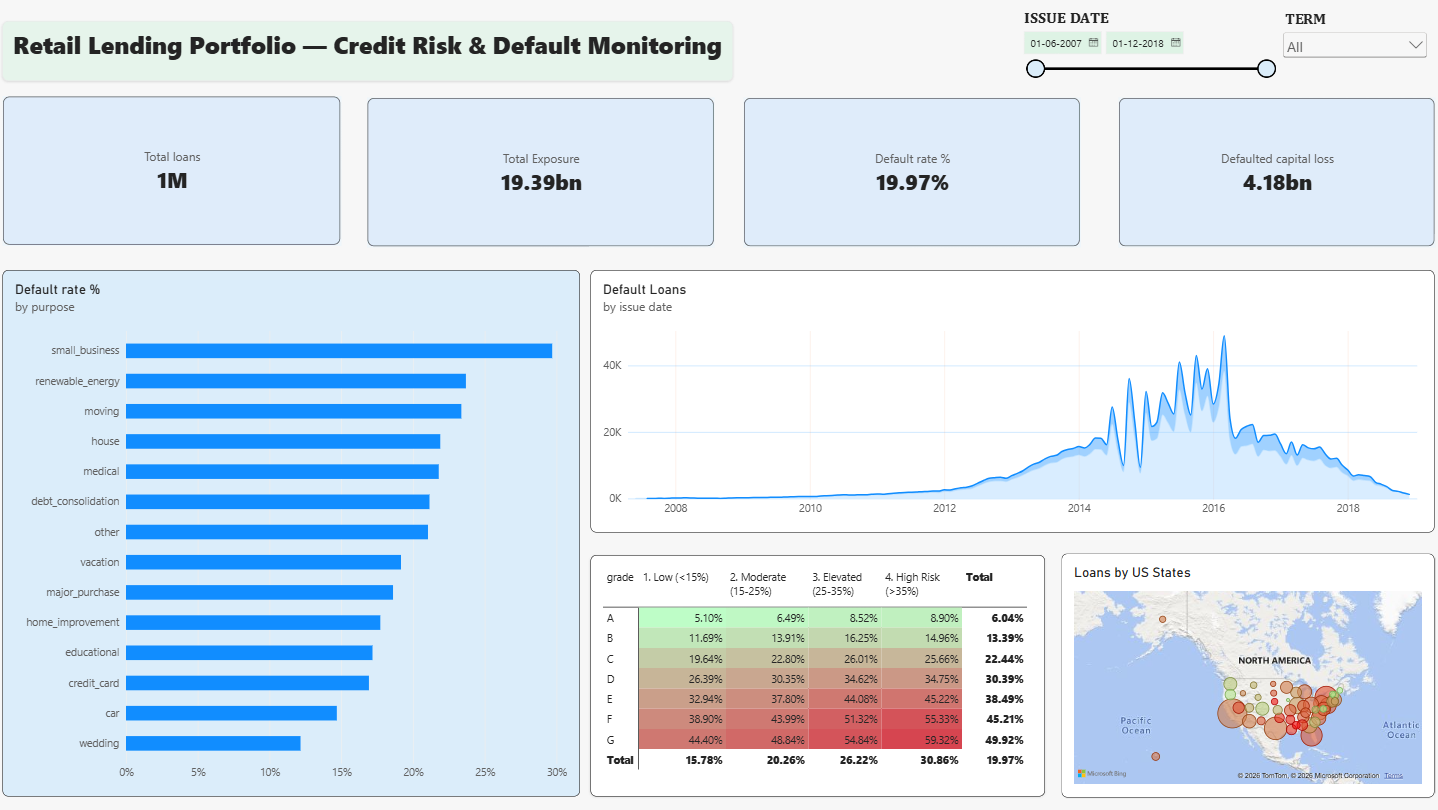

This screenshot's page, from the dashboard's own definition file:
{"tool":"powerbi","page":{"name":"Portfolio Risk Overview","canvas":[1920,1080],"ordinal":0},"visuals":[{"type":"textbox","box":[6,28,974,80],"z":0},{"type":"cardVisual","fields":{"Data":["_RiskMeasures.Total_Exposure"]},"box":[492.5,130,463.3,199.9],"z":1000},{"type":"cardVisual","fields":{"Data":["_RiskMeasures.Default_rate_%"]},"box":[994,130,449.7,199.9],"z":2000},{"type":"cardVisual","fields":{"Data":["_RiskMeasures.Defaulted_capital_loss"]},"box":[1494,130,422.5,199.9],"z":3000},{"type":"slicer","title":"ISSUE DATE","fields":{"Values":["public view_cleaned_loan_risk.issue_date"]},"box":[1360,10,347.5,147.5],"z":4000},{"type":"slicer","title":"TERM","fields":{"Values":["public view_cleaned_loan_risk.term"]},"box":[1707.5,12.5,202.5,107.5],"z":5000},{"type":"clusteredBarChart","title":"Default rate %","fields":{"Category":["public view_cleaned_loan_risk.purpose"],"Y":["_RiskMeasures.Default_rate_%"]},"box":[6,360,770,702],"z":6000},{"type":"pivotTable","fields":{"Columns":["public view_cleaned_loan_risk.dti_risk_tier"],"Rows":["public view_cleaned_loan_risk.grade"],"Values":["_RiskMeasures.Default_rate_%"]},"box":[790,740,606,322],"z":7000},{"type":"map","title":"Loans by US States","fields":{"Category":["public view_cleaned_loan_risk.addr_state"],"Size":["_RiskMeasures.Total_loans"]},"box":[1417.5,737.5,497.5,325],"z":8000},{"type":"cardVisual","fields":{"Data":["_RiskMeasures.Total_loans"]},"box":[6,128,452,199.9],"z":9000},{"type":"stackedAreaChart","title":"Default Loans","fields":{"Category":["public view_cleaned_loan_risk.issue_date"],"Series":["public view_cleaned_loan_risk.is_default"],"Y":["_RiskMeasures.Total_loans"]},"box":[790,360,1125,350],"z":10000}]}

Visuals, with their boxes in screenshot pixels (x1, y1, x2, y2), scaled from the page's 1920x1080 canvas onto the 1438x810 screenshot:
textbox: pyautogui.locateOnScreen(4, 21, 734, 81)
cardVisual - _RiskMeasures.Total_Exposure: pyautogui.locateOnScreen(369, 98, 716, 247)
cardVisual - _RiskMeasures.Default_rate_%: pyautogui.locateOnScreen(744, 98, 1081, 247)
cardVisual - _RiskMeasures.Defaulted_capital_loss: pyautogui.locateOnScreen(1119, 98, 1435, 247)
"ISSUE DATE" slicer: pyautogui.locateOnScreen(1019, 8, 1279, 118)
"TERM" slicer: pyautogui.locateOnScreen(1279, 9, 1431, 90)
"Default rate %" clusteredBarChart: pyautogui.locateOnScreen(4, 270, 581, 796)
pivotTable - public view_cleaned_loan_risk.dti_risk_tier x public view_cleaned_loan_risk.grade: pyautogui.locateOnScreen(592, 555, 1046, 796)
"Loans by US States" map: pyautogui.locateOnScreen(1062, 553, 1434, 797)
cardVisual - _RiskMeasures.Total_loans: pyautogui.locateOnScreen(4, 96, 343, 246)
"Default Loans" stackedAreaChart: pyautogui.locateOnScreen(592, 270, 1434, 532)
